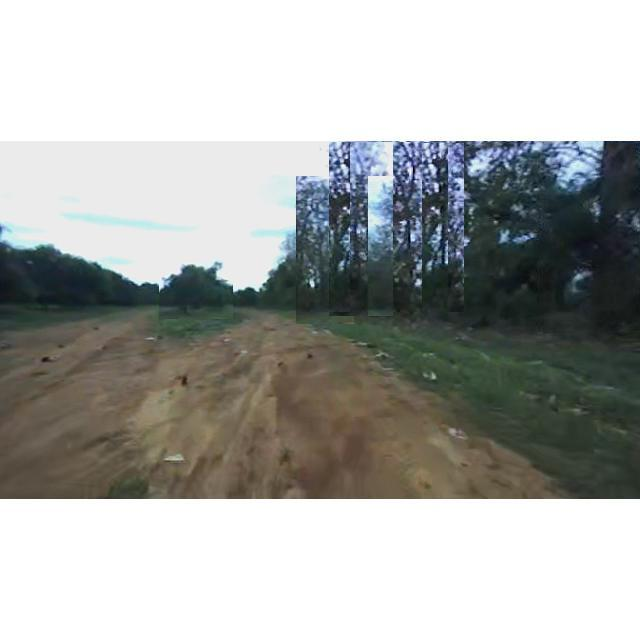direk: (539, 142, 639, 332), (372, 142, 438, 312), (329, 142, 393, 316), (6, 230, 98, 324), (296, 176, 354, 324), (422, 143, 464, 313), (159, 253, 233, 319)
